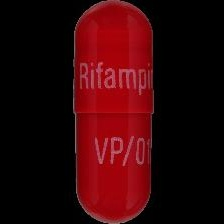52959-653: (0, 0, 224, 224)
